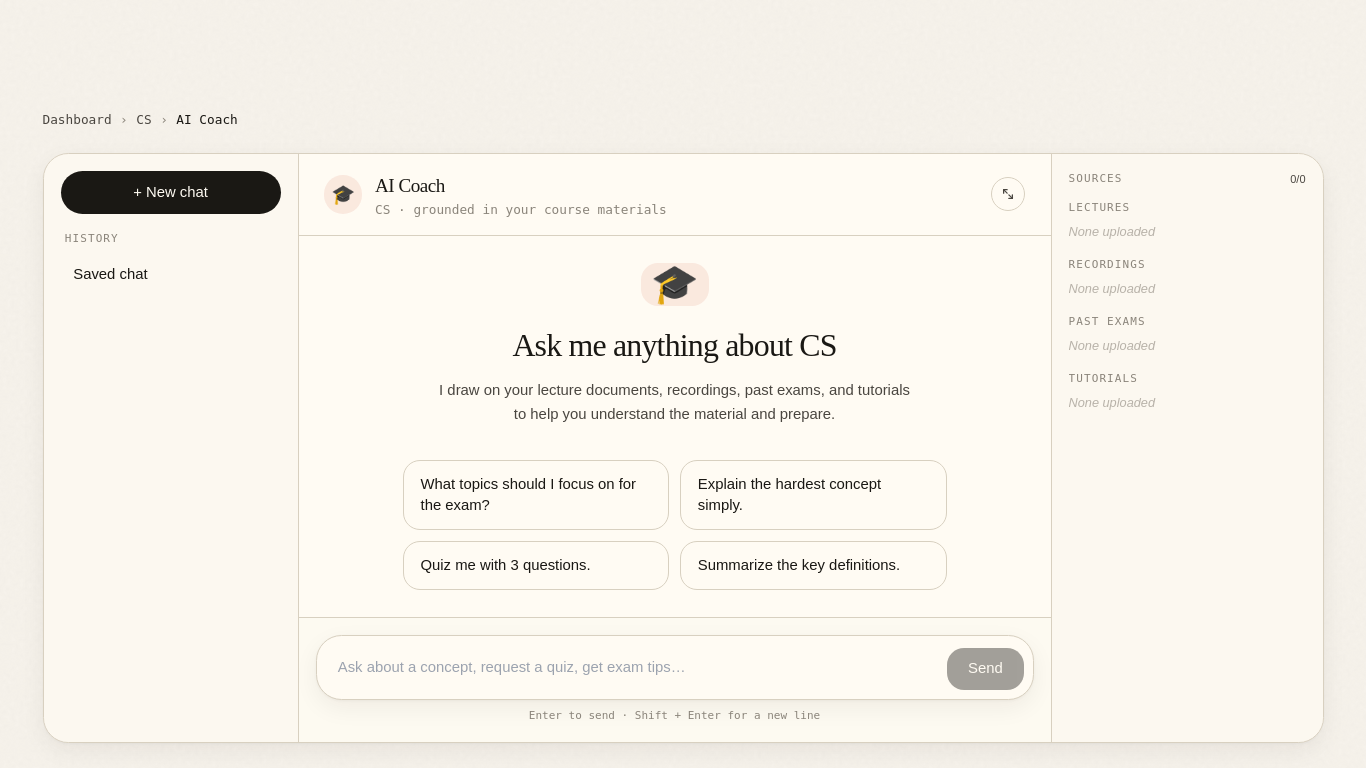
Test case: tutor request ownership › discards a pending reply after opening a different saved conversation
Click the button "Explain the hardest concept simply." at (790,484), box [680,460,946,530]
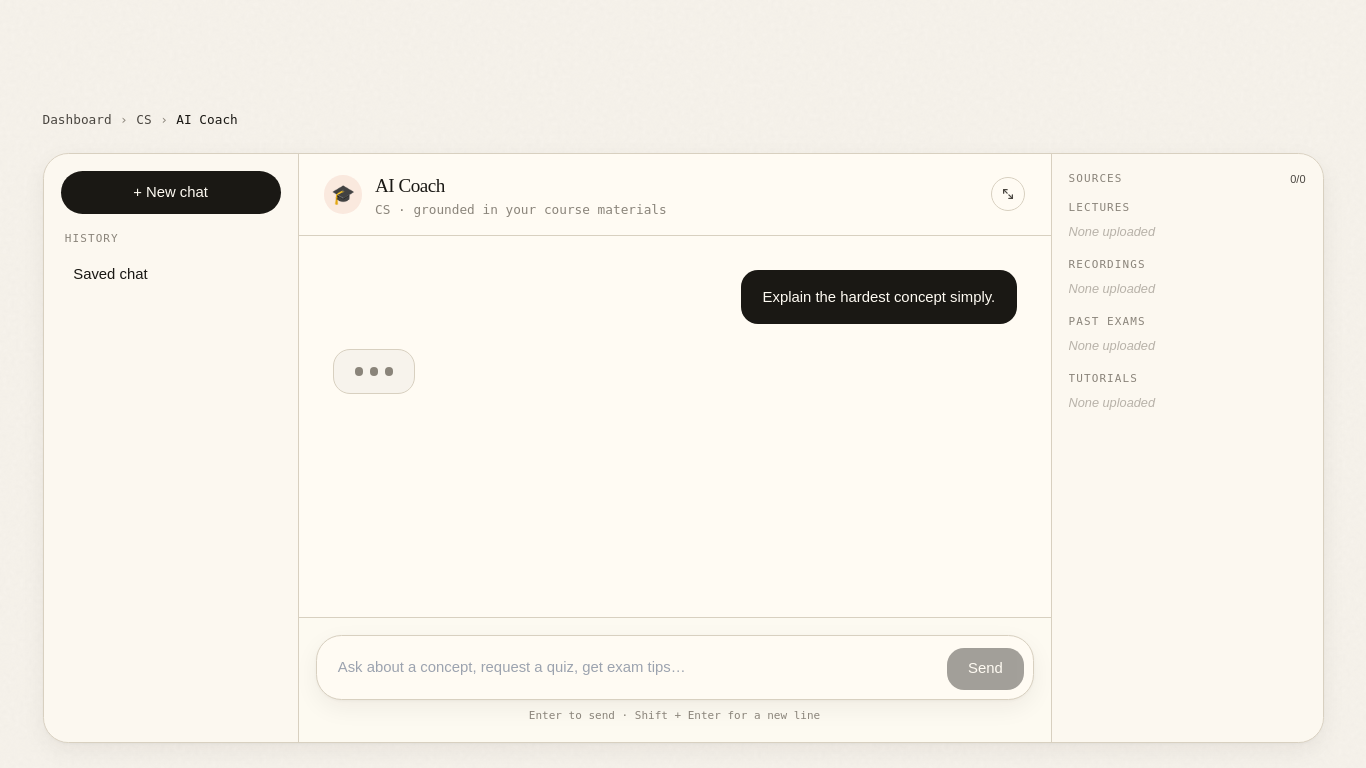
Click the button "Saved chat" at (110,274), box [73,266,148,282]
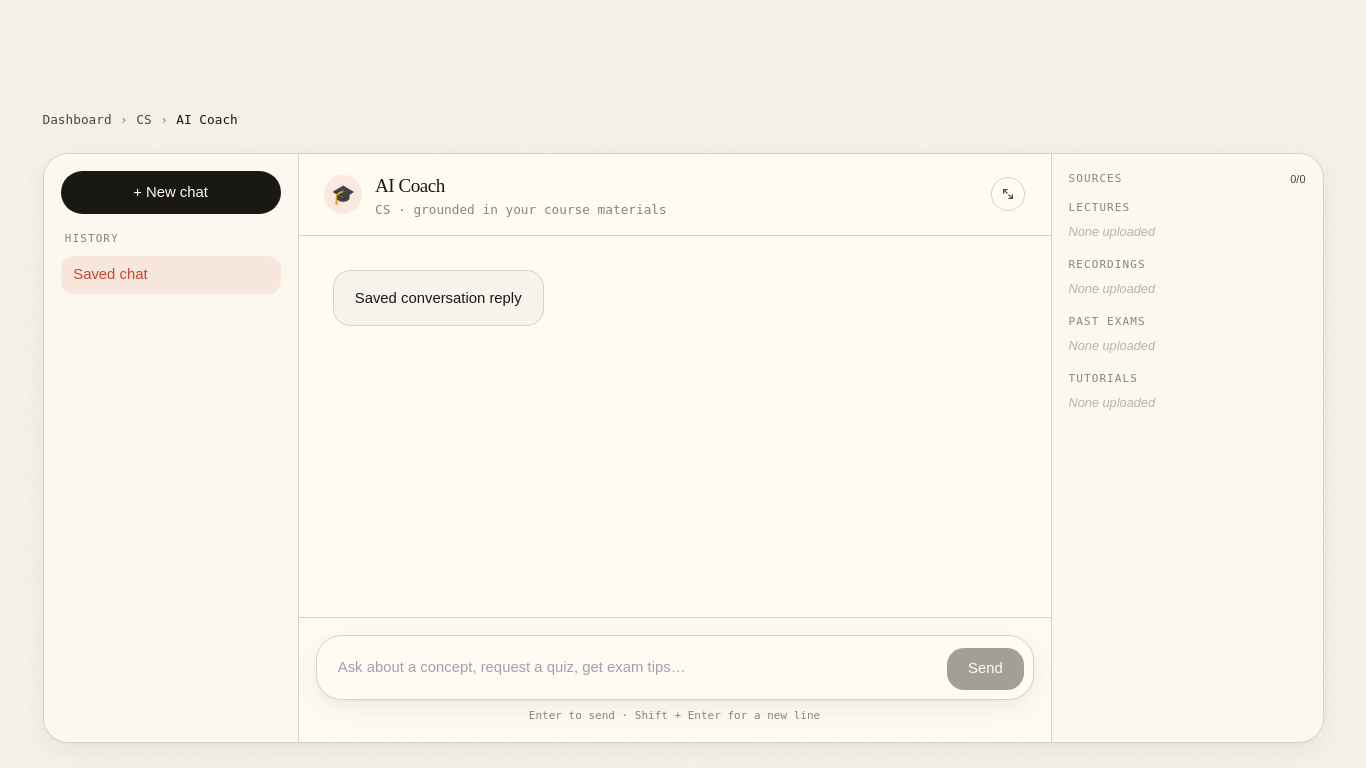
Check: the text "Saved conversation reply" is shown, box [355,286,522,310]
